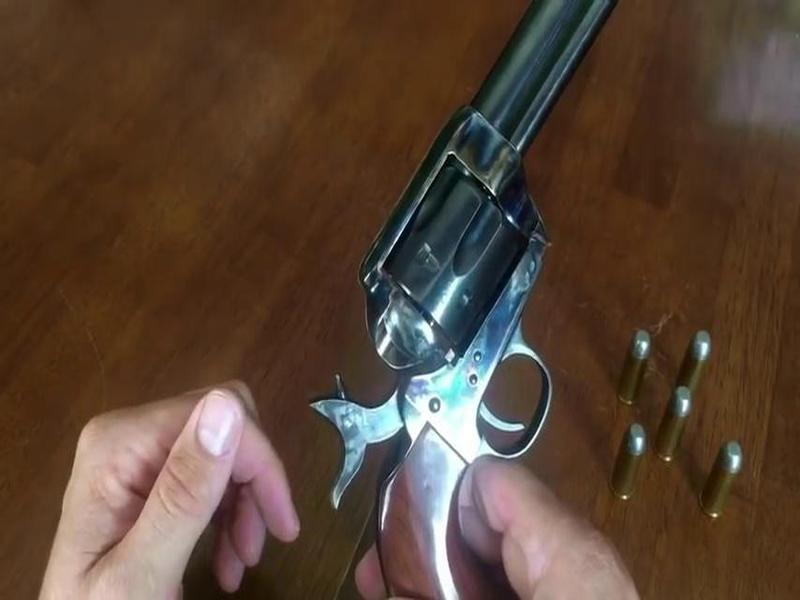Revolver: (348, 6, 664, 600)
